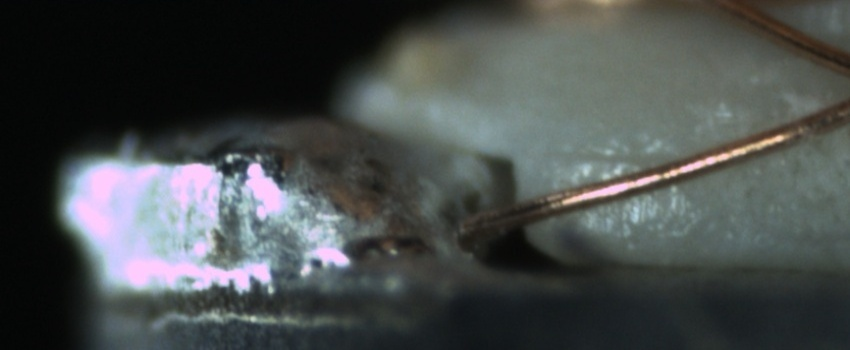DL: (545, 128, 678, 187)
